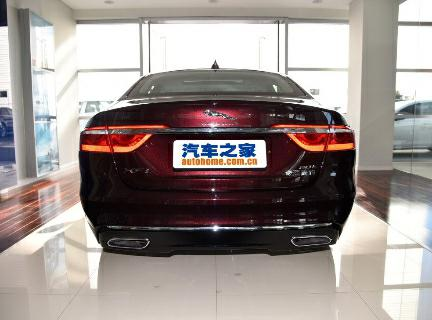捷豹-XFL: (69, 60, 367, 258)
